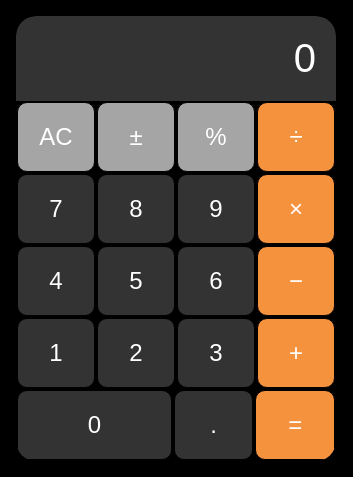
Test: Calculator Functionality › decimal point input and formatting
Click the button "1": (56, 352) [17,318,95,388]
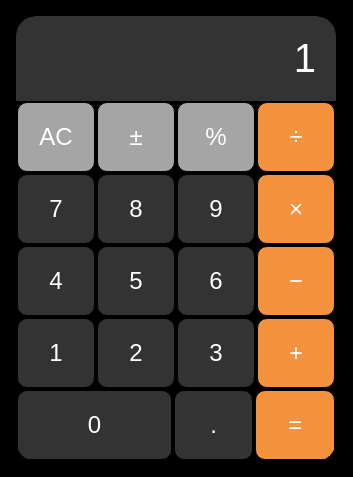
Click the button ".": (214, 424) [174,390,253,460]
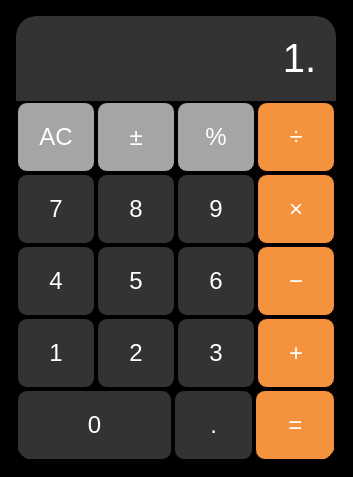
Click the button "1": (56, 352) [17,318,95,388]
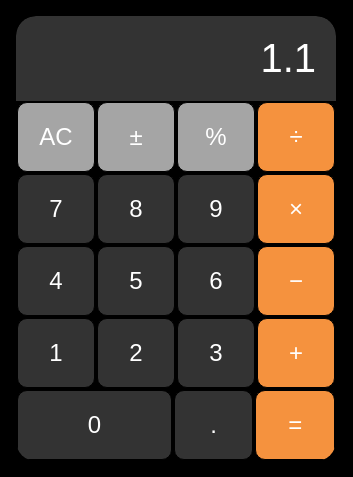
Expected: the heading reads "1.1", [260,36,316,80]
